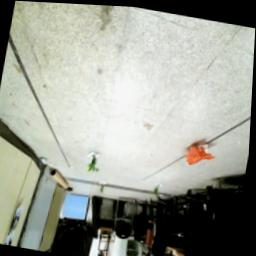herb: (88, 152, 105, 173), (155, 182, 163, 196), (102, 182, 108, 193)
wild: (185, 140, 220, 170)
